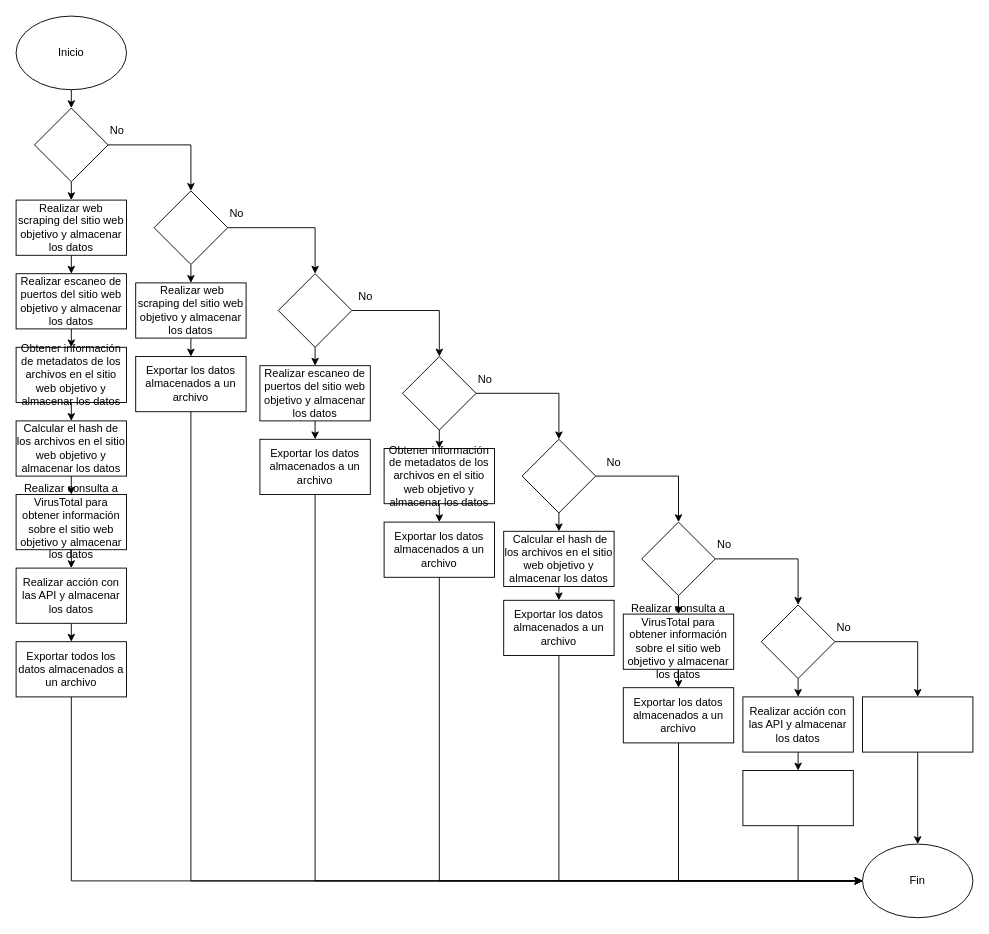
This 989x934 diagram has some shape labels left out. The shapes that lost their labels are listed below. From the top down, each one's centre as x and y in pixels, then its label:
(x=71, y=144): all
(x=190, y=227): web_scrapping
(x=314, y=310): escaneo_puertos
(x=439, y=393): metadatos
(x=558, y=475): hash
(x=678, y=558): correos
(x=797, y=641): api
(x=917, y=724): Acción no válida
